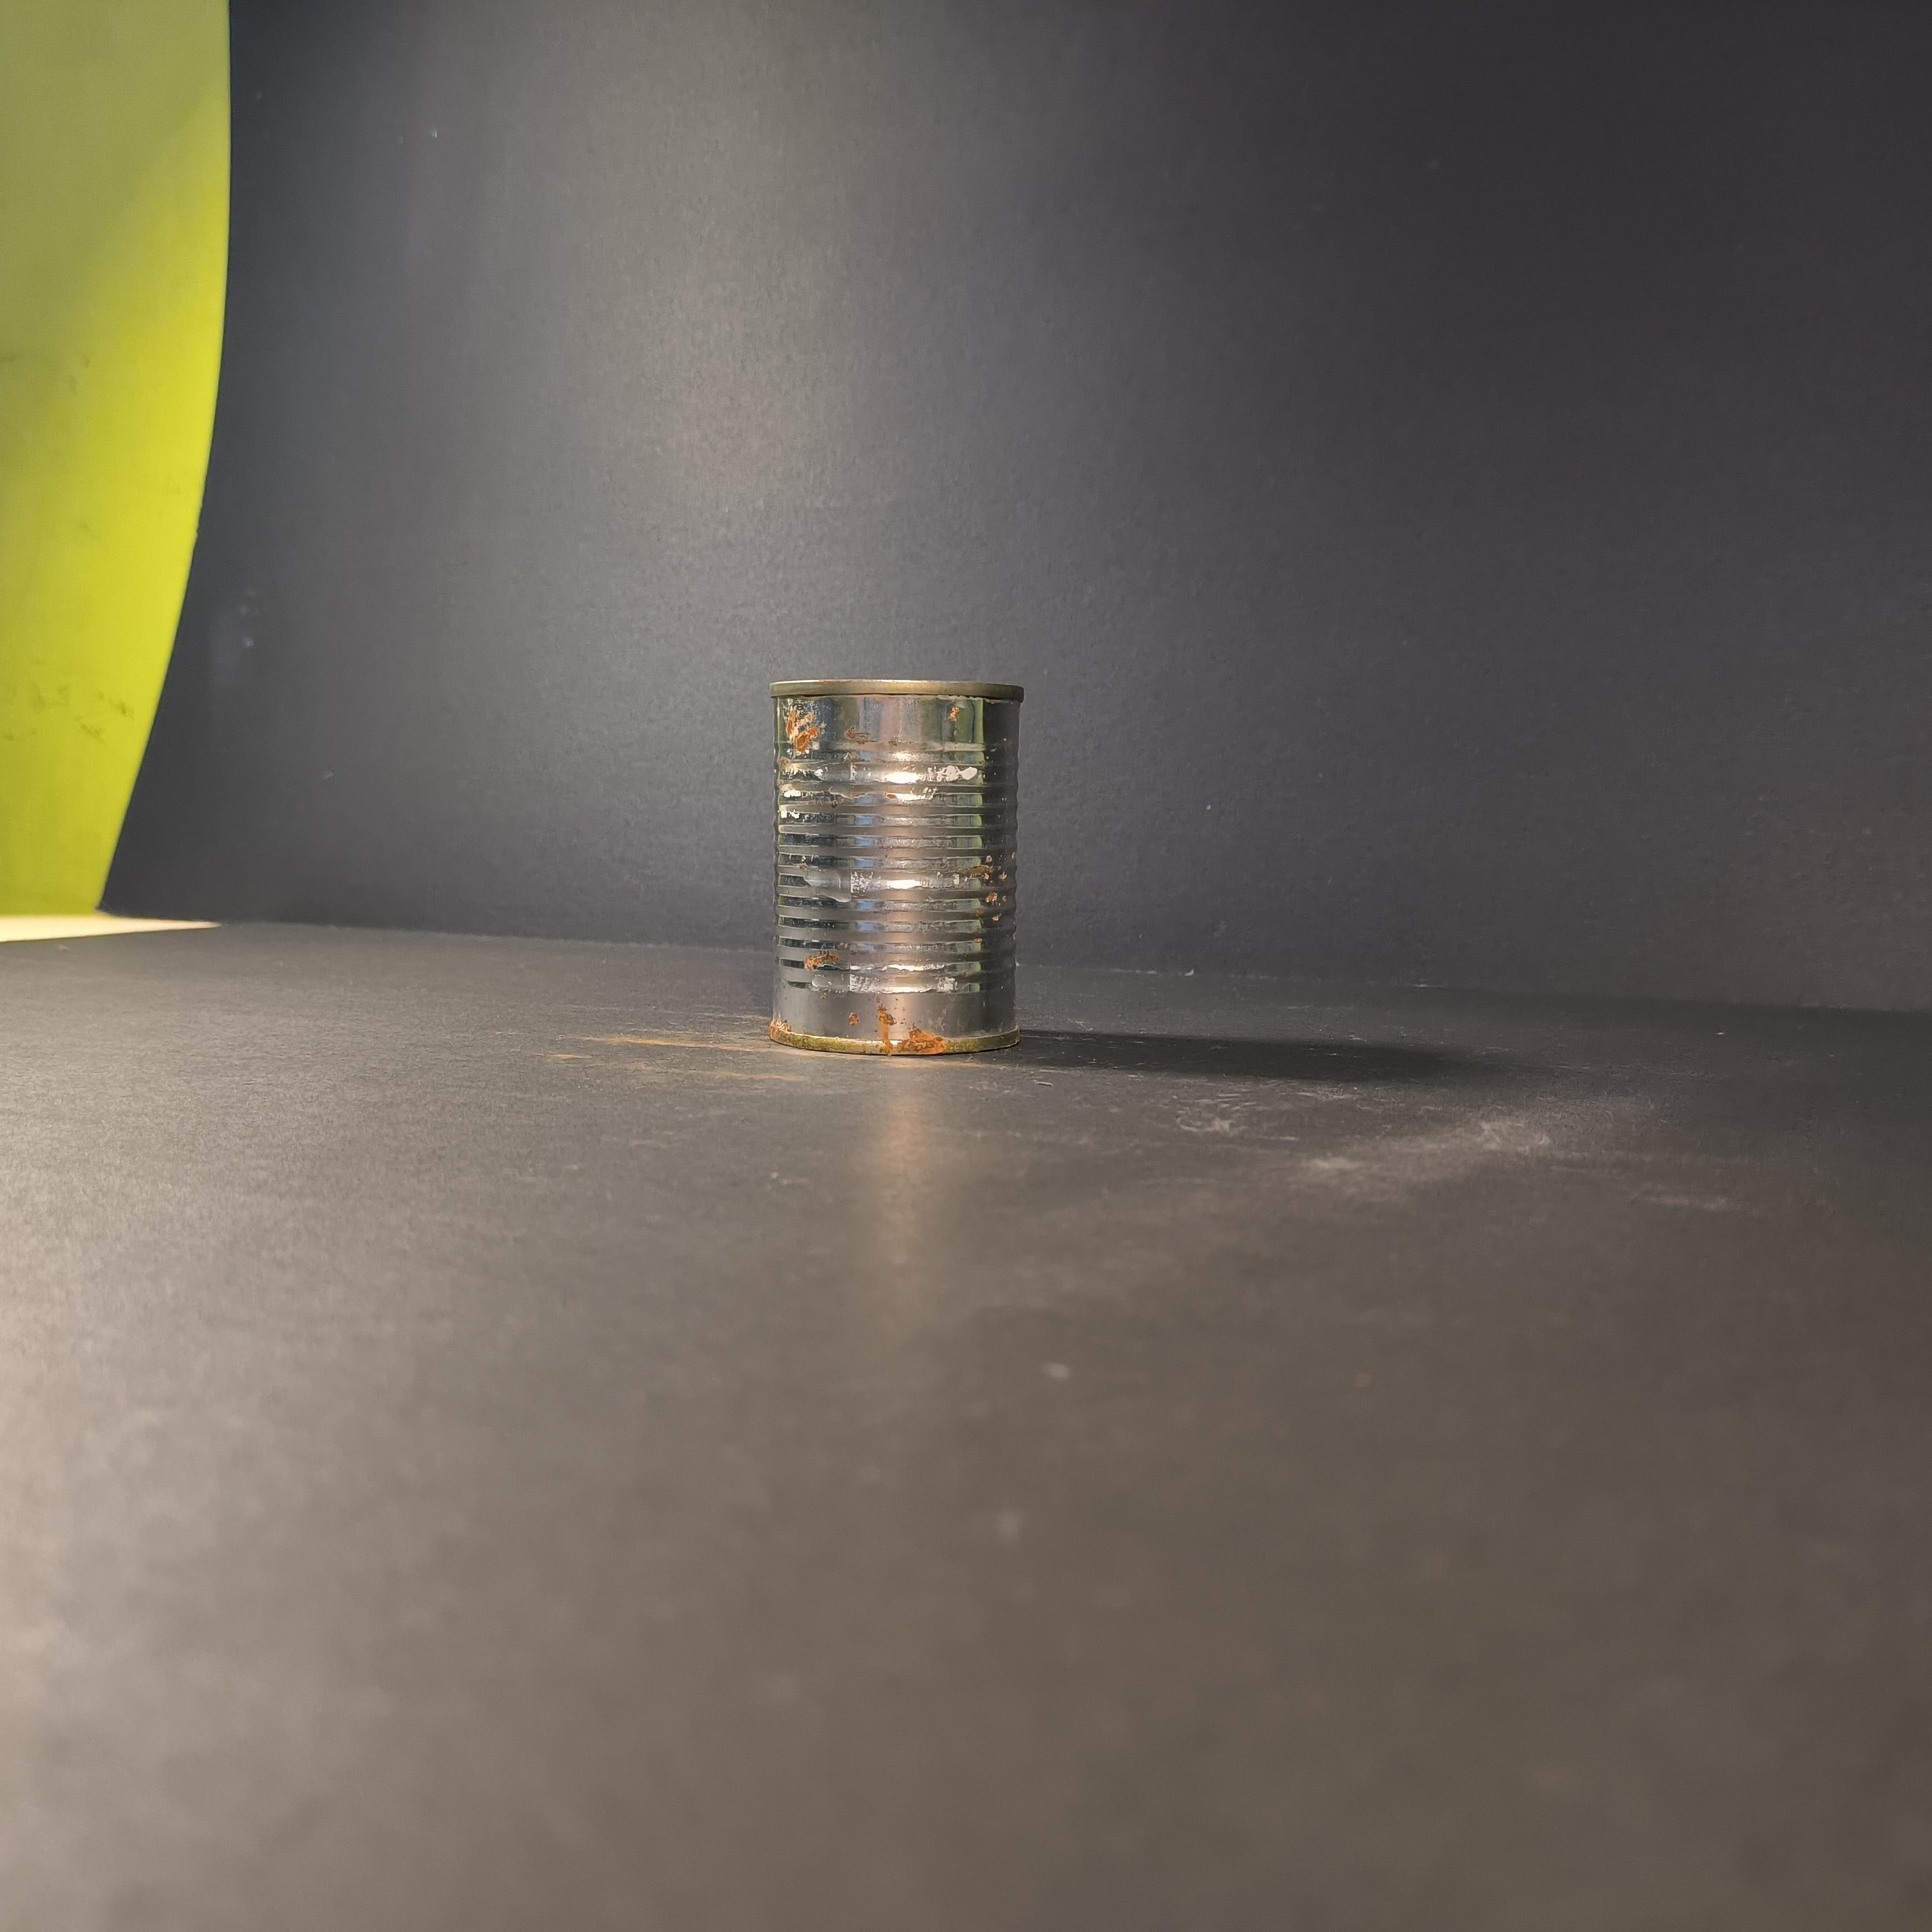Rusted: (757, 660, 1054, 1069)
